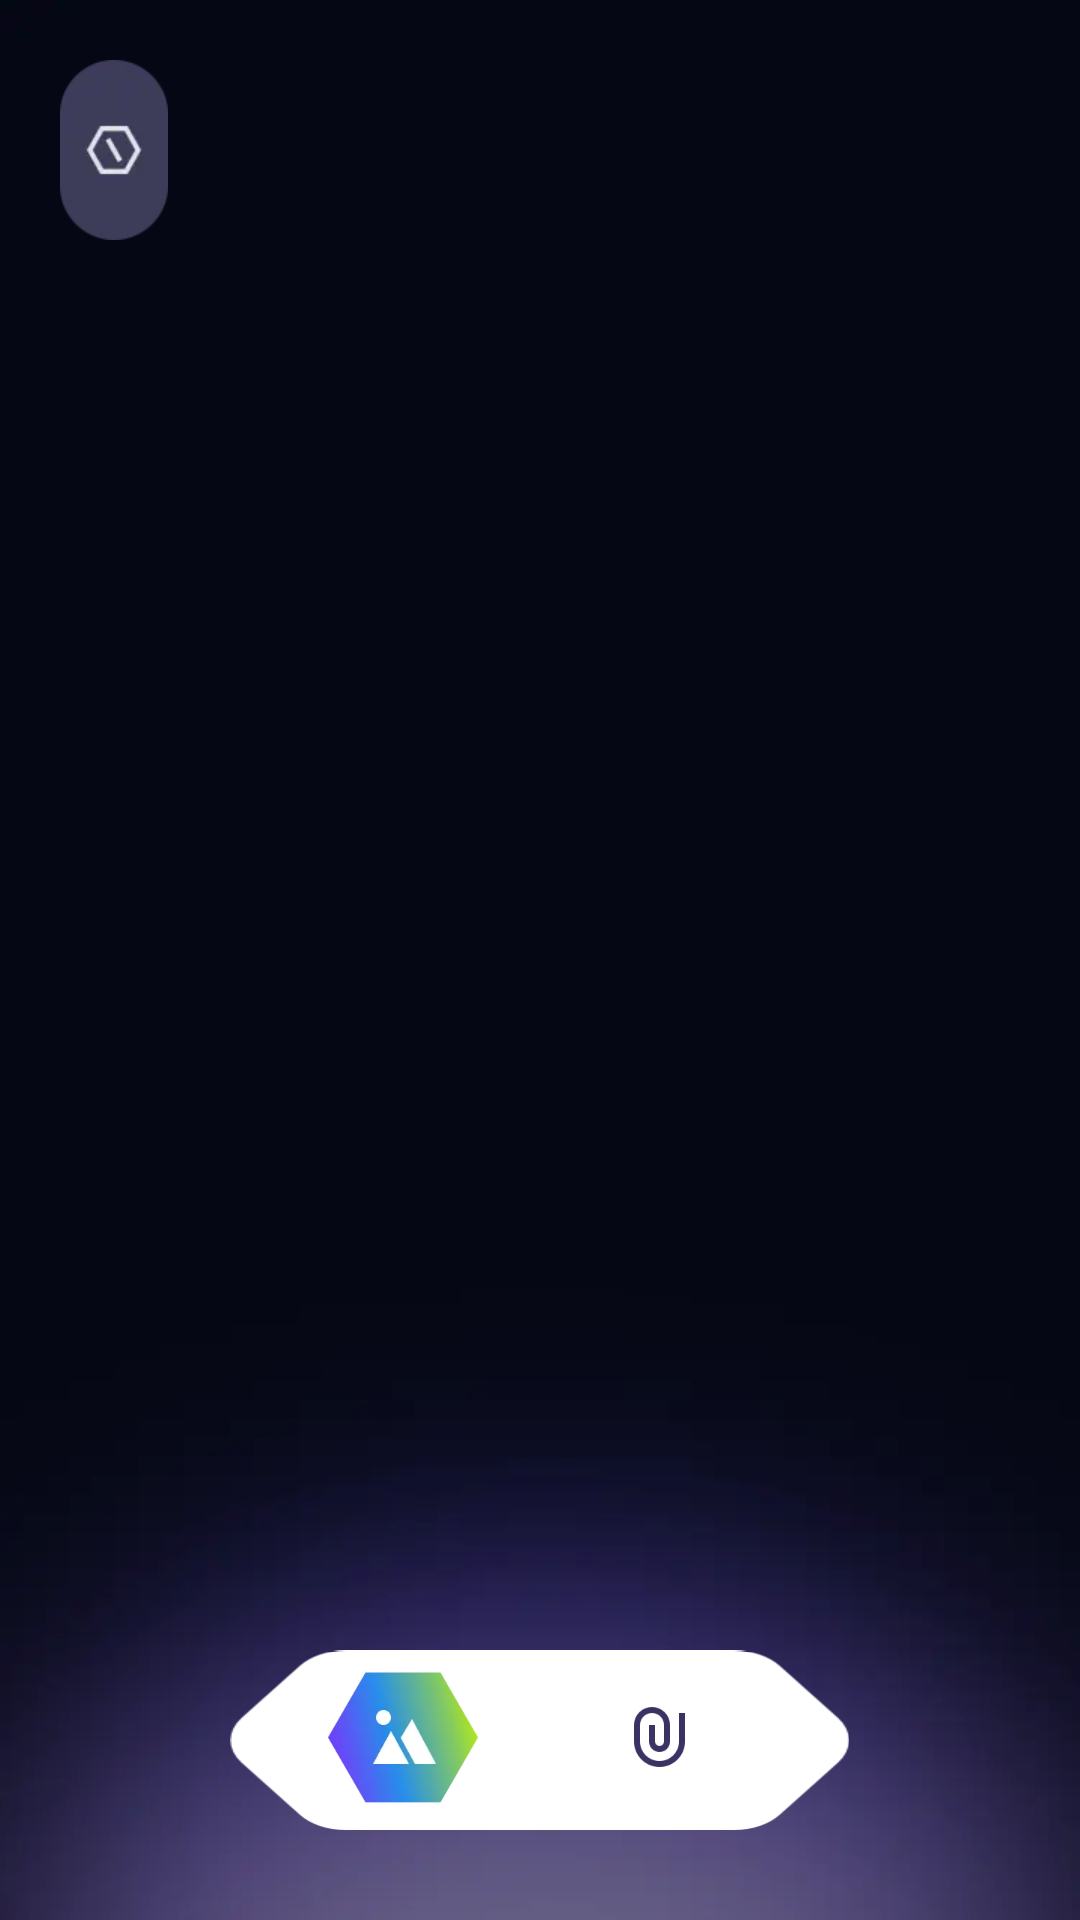

Icons on this 1080 × 1920 Android screen, each with the point to tap as (x=x, y=y):
home setting: (x=114, y=150)
